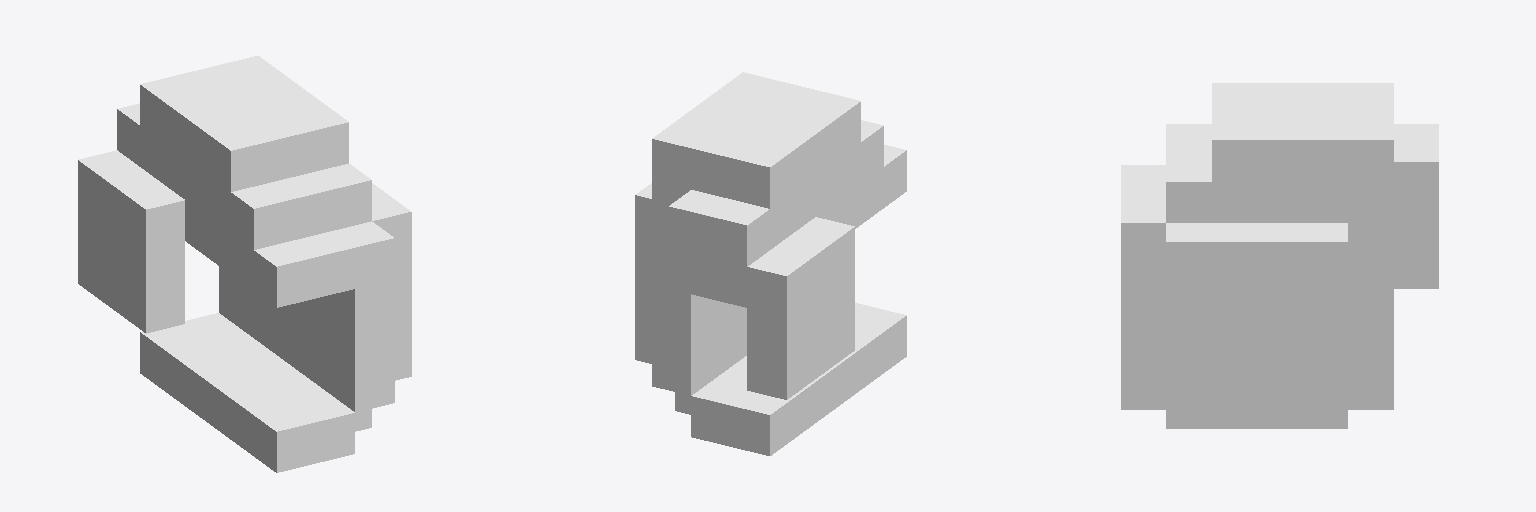
The model's file is Character-0-Rhand.obj.
The picture shows the model from 3 angles: view 1: azimuth 30°, elevation 25°; view 2: azimuth 150°, elevation 25°; view 3: azimuth 270°, elevation 25°; orthographic projection.
Visible parts, largest first — view 1: Rhand; view 2: Rhand; view 3: Rhand.
Part boxes in pixels (bbox=[...]): Rhand: bbox=[78, 56, 411, 472]; Rhand: bbox=[635, 72, 906, 455]; Rhand: bbox=[1121, 83, 1438, 428].
Bounding box in the file's own units: 0.5 × 0.7 × 0.7.